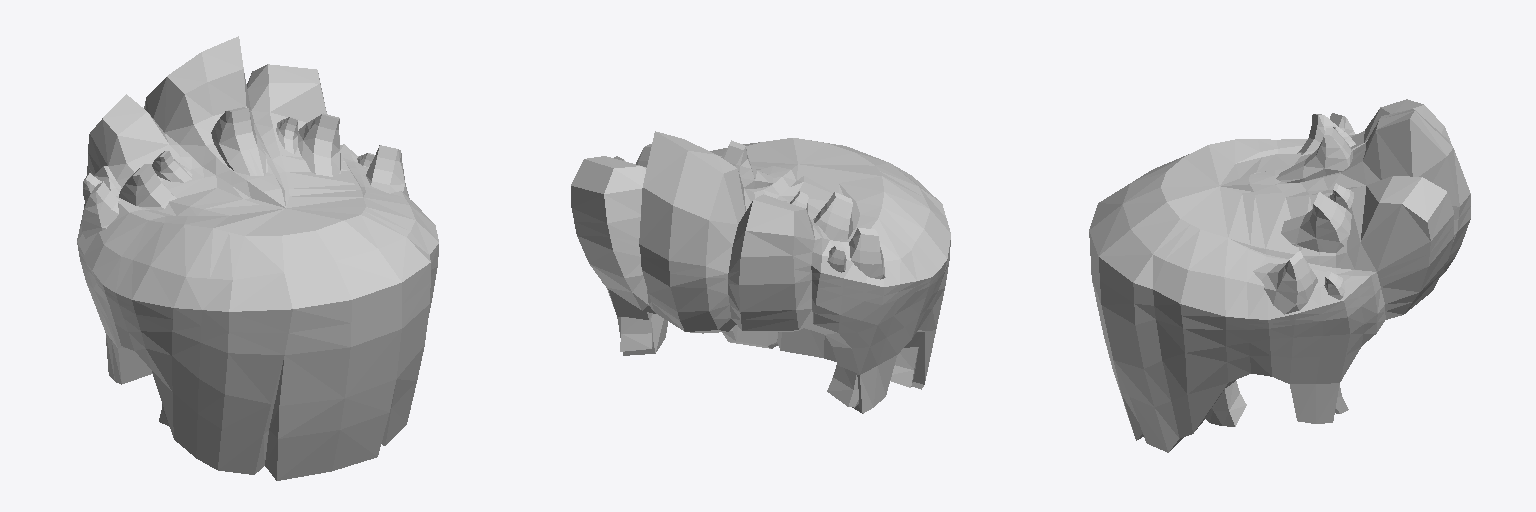
The model's file is Big Style Brown Hair.obj.
The picture shows the model from 3 angles: view 1: azimuth 30°, elevation 25°; view 2: azimuth 150°, elevation 25°; view 3: azimuth 270°, elevation 25°; orthographic projection.
Parts seen in each view (by area): view 1: Handle1; view 2: Handle1; view 3: Handle1.
Part boxes in pixels (x1,y1,x2,y2): Handle1: (77,36,438,480); Handle1: (571,131,950,413); Handle1: (1089,99,1470,452).
Bounding box in the file's own units: 1.59 × 1.55 × 1.66.